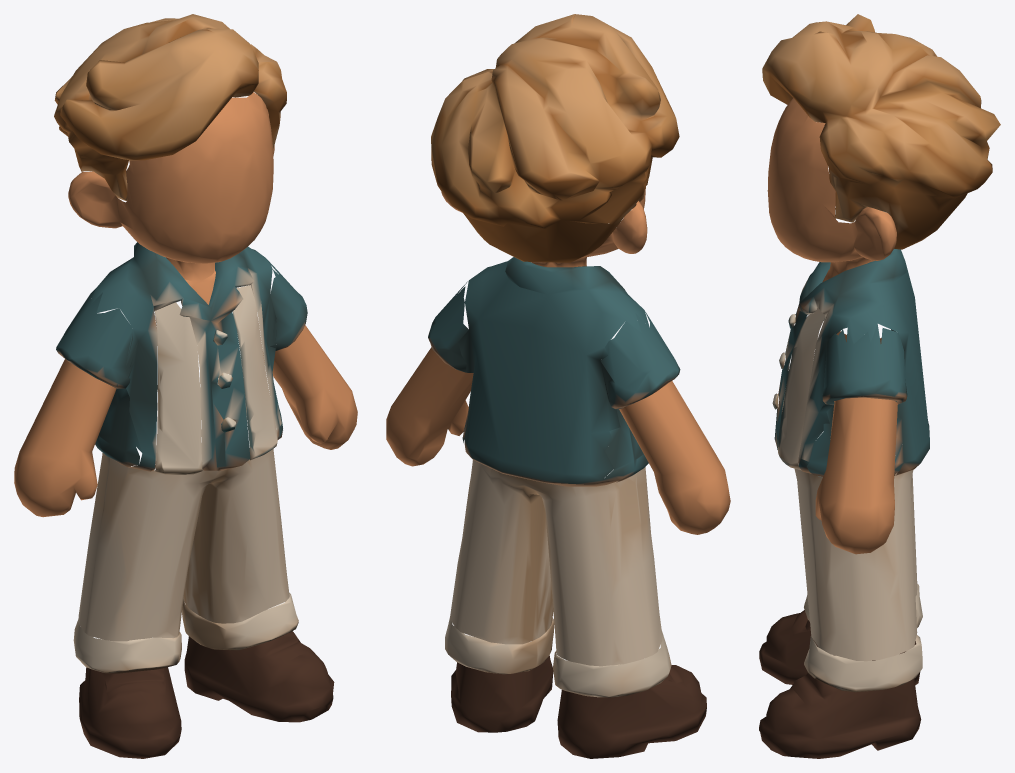
The picture shows the model from 3 angles, left to right: view 1: azimuth 30°, elevation 25°; view 2: azimuth 150°, elevation 25°; view 3: azimuth 270°, elevation 25°; orthographic projection. The views are drawn at different scales.
Visible parts, largest first — view 1: bottom, top, hair, head, hand_r, shoe_l, shoe_r, sleeve_r, hand_l, acc_body_1, acc_body_0, sleeve_l; view 2: hair, bottom, top, hand_r, shoe_r, hand_l, sleeve_r, shoe_l, acc_body_1, acc_body_0, sleeve_l, head; view 3: hair, top, bottom, head, hand_l, shoe_l, sleeve_l, acc_body_0, shoe_r.
Boxes of the visible parts, left/top/right/bottom form: bottom: left=78, top=449, right=289, bottom=641; top: left=89, top=242, right=282, bottom=474; hair: left=54, top=14, right=286, bottom=201; head: left=68, top=92, right=274, bottom=304; hand_r: left=14, top=359, right=116, bottom=517; shoe_l: left=184, top=631, right=334, bottom=722; shoe_r: left=79, top=667, right=181, bottom=758; sleeve_r: left=56, top=288, right=141, bottom=466; hand_l: left=263, top=325, right=357, bottom=449; acc_body_1: left=73, top=620, right=181, bottom=673; acc_body_0: left=182, top=593, right=298, bottom=650; sleeve_l: left=270, top=266, right=307, bottom=426; hair: left=431, top=14, right=679, bottom=262; bottom: left=450, top=460, right=662, bottom=666; top: left=458, top=257, right=649, bottom=486; hand_r: left=619, top=381, right=730, bottom=534; shoe_r: left=557, top=665, right=706, bottom=758; hand_l: left=386, top=347, right=473, bottom=466; sleeve_r: left=600, top=311, right=680, bottom=482; shoe_l: left=451, top=655, right=553, bottom=732; acc_body_1: left=553, top=630, right=671, bottom=697; acc_body_0: left=445, top=618, right=554, bottom=674; sleeve_l: left=428, top=281, right=468, bottom=442; head: left=441, top=187, right=647, bottom=267; hair: left=762, top=14, right=1000, bottom=249; top: left=772, top=249, right=929, bottom=477; bottom: left=794, top=464, right=917, bottom=661; head: left=767, top=98, right=896, bottom=282; hand_l: left=815, top=397, right=897, bottom=554; shoe_l: left=759, top=673, right=921, bottom=758; sleeve_l: left=806, top=324, right=907, bottom=476; acc_body_0: left=804, top=635, right=922, bottom=692; shoe_r: left=759, top=610, right=920, bottom=684.
Bounding box in the file's own units: 0.521 × 1.03 × 0.3336.
